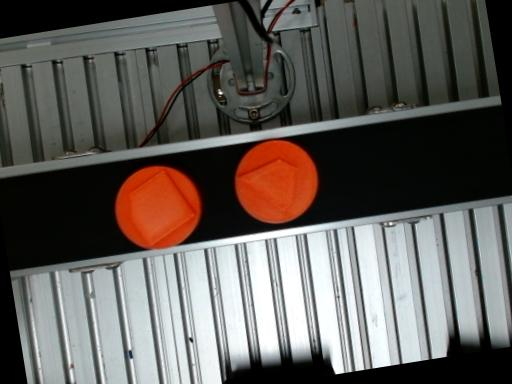Not_Square: (129, 168, 196, 247), (237, 157, 297, 210)
Orange_Waper: (115, 166, 201, 249), (234, 140, 317, 223)
